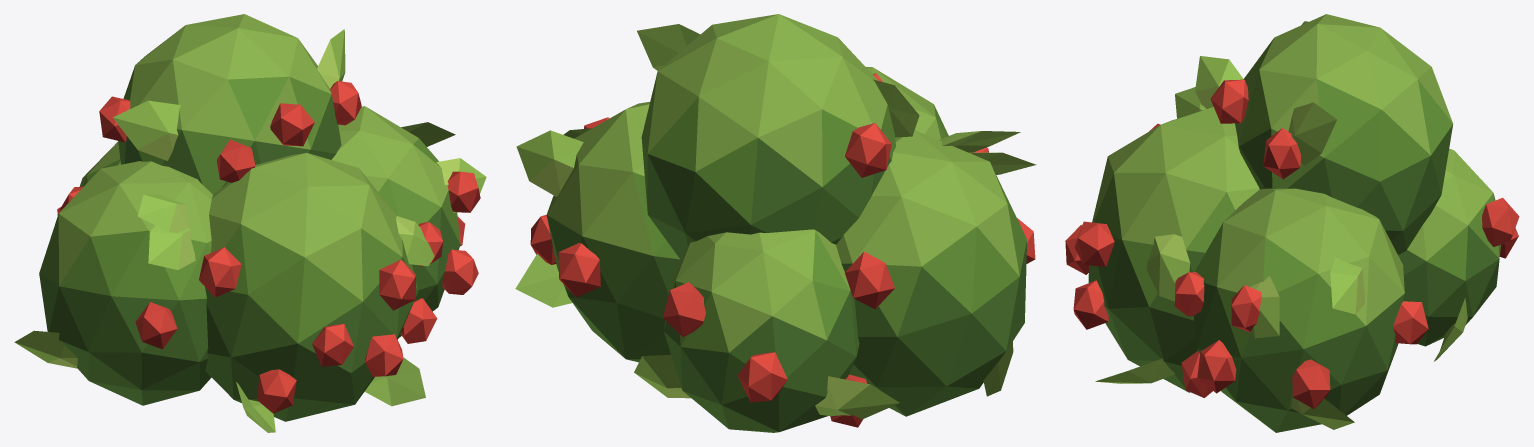
Rendered from FMS_Bush_Berry.fbx.
3 renders of one model, left to right at view 1: azimuth 30°, elevation 25°; view 2: azimuth 150°, elevation 25°; view 3: azimuth 270°, elevation 25°, orthographic. The views are drawn at different scales.
Parts seen in each view (by area): view 1: FMS_Bush_Berry; view 2: FMS_Bush_Berry; view 3: FMS_Bush_Berry.
Boxes of the visible parts, x1,y1,x2,y2 form: FMS_Bush_Berry: (14, 14, 486, 432); FMS_Bush_Berry: (515, 14, 1036, 432); FMS_Bush_Berry: (1065, 14, 1519, 432).
Size of the model in its own units: 1.15 by 0.85 by 1.
